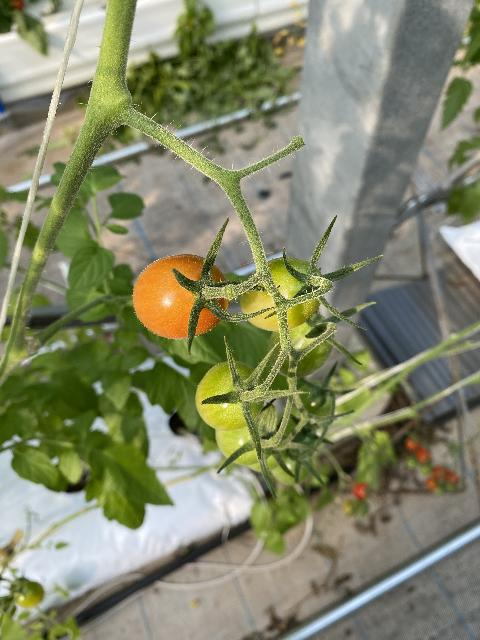l_green: (238, 256, 326, 332), (195, 359, 263, 432), (267, 312, 335, 378), (215, 411, 276, 464), (293, 381, 336, 420), (244, 432, 286, 471), (273, 448, 313, 484)
l_half_ripened: (130, 254, 231, 338)
